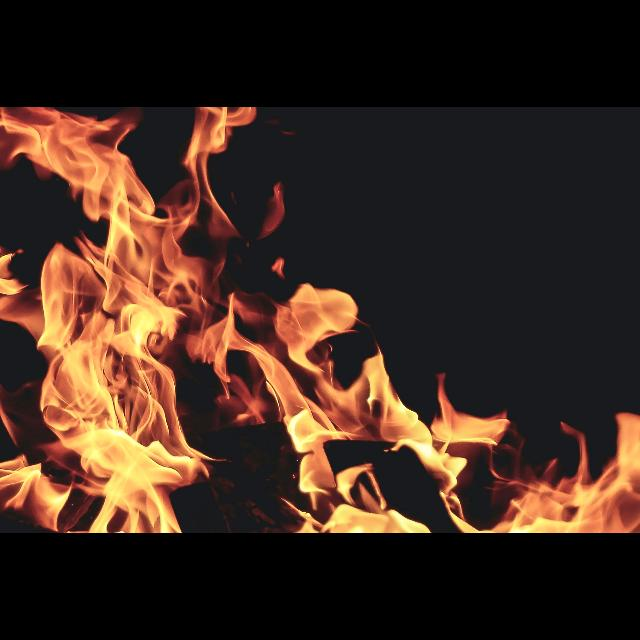fire: (0, 107, 520, 534)
